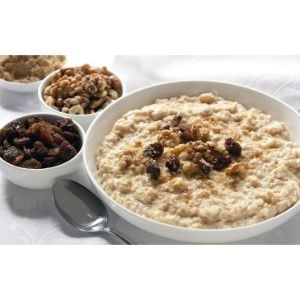oat_brain food: (144, 121, 270, 191)
